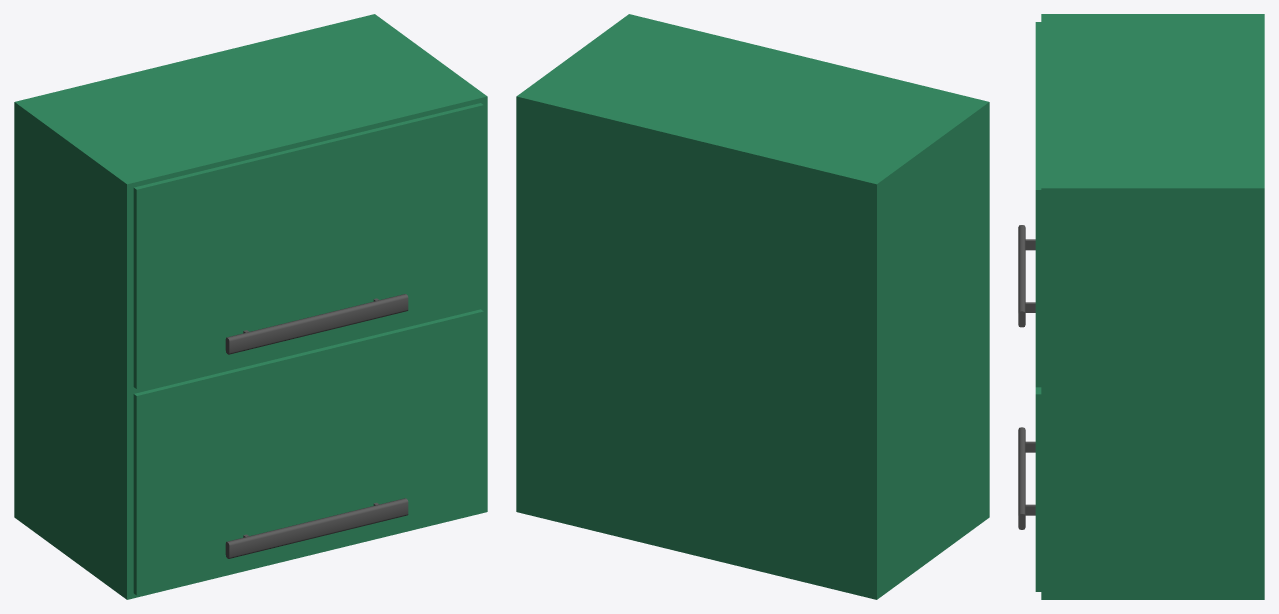
Rendered from mcp_kitchen_cupboard_wall_03.FBX.
3 views of the same model, side by side, from view 1: azimuth 30°, elevation 25°; view 2: azimuth 150°, elevation 25°; view 3: azimuth 270°, elevation 25° (orthographic).
Parts seen in each view (by area): view 1: mcp_kitchen_cupboard_wall_03, mcp_kitchen_cupboard_wall_03_knobs; view 2: mcp_kitchen_cupboard_wall_03; view 3: mcp_kitchen_cupboard_wall_03, mcp_kitchen_cupboard_wall_03_knobs.
Boxes of the visible parts, x1=… form: mcp_kitchen_cupboard_wall_03: x1=14, y1=14, x2=487, y2=599; mcp_kitchen_cupboard_wall_03_knobs: x1=225, y1=294, x2=408, y2=558; mcp_kitchen_cupboard_wall_03: x1=516, y1=14, x2=989, y2=599; mcp_kitchen_cupboard_wall_03: x1=1035, y1=14, x2=1264, y2=599; mcp_kitchen_cupboard_wall_03_knobs: x1=1018, y1=225, x2=1035, y2=529.
Bounding box in the file's own units: 85.9 × 94.66 × 51.28.
